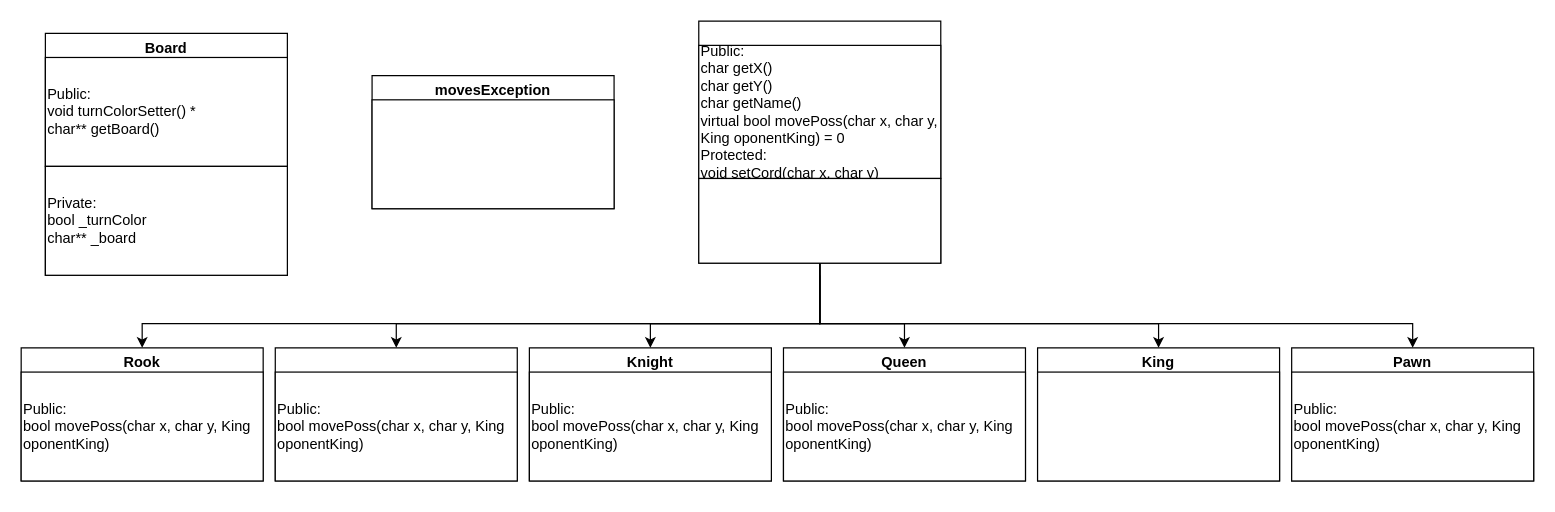
This 1555x512 diagram has some shape labels left out. Each missing label, with the box of its shape:
Bishop: (274, 347, 517, 481)
Private: char _x char _y char _name bool _checkFlag: (698, 177, 941, 263)
Public: bool movePoss(char x, char y, King oponentKing) Private: bool _checkFlag: (1036, 371, 1280, 481)
Public: int movesExceptions(): (371, 99, 614, 209)
Soldier: (698, 20, 941, 263)
